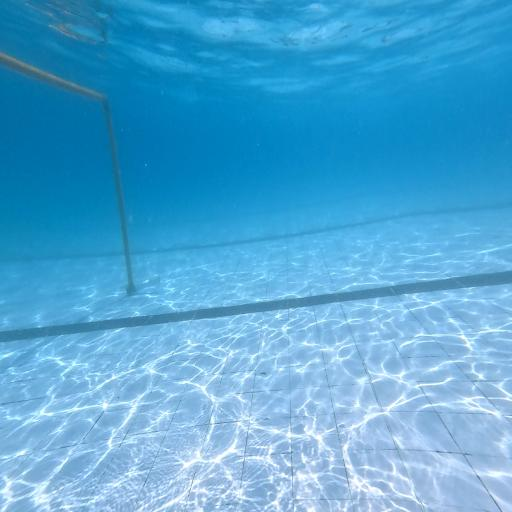gate: (0, 51, 159, 294)
